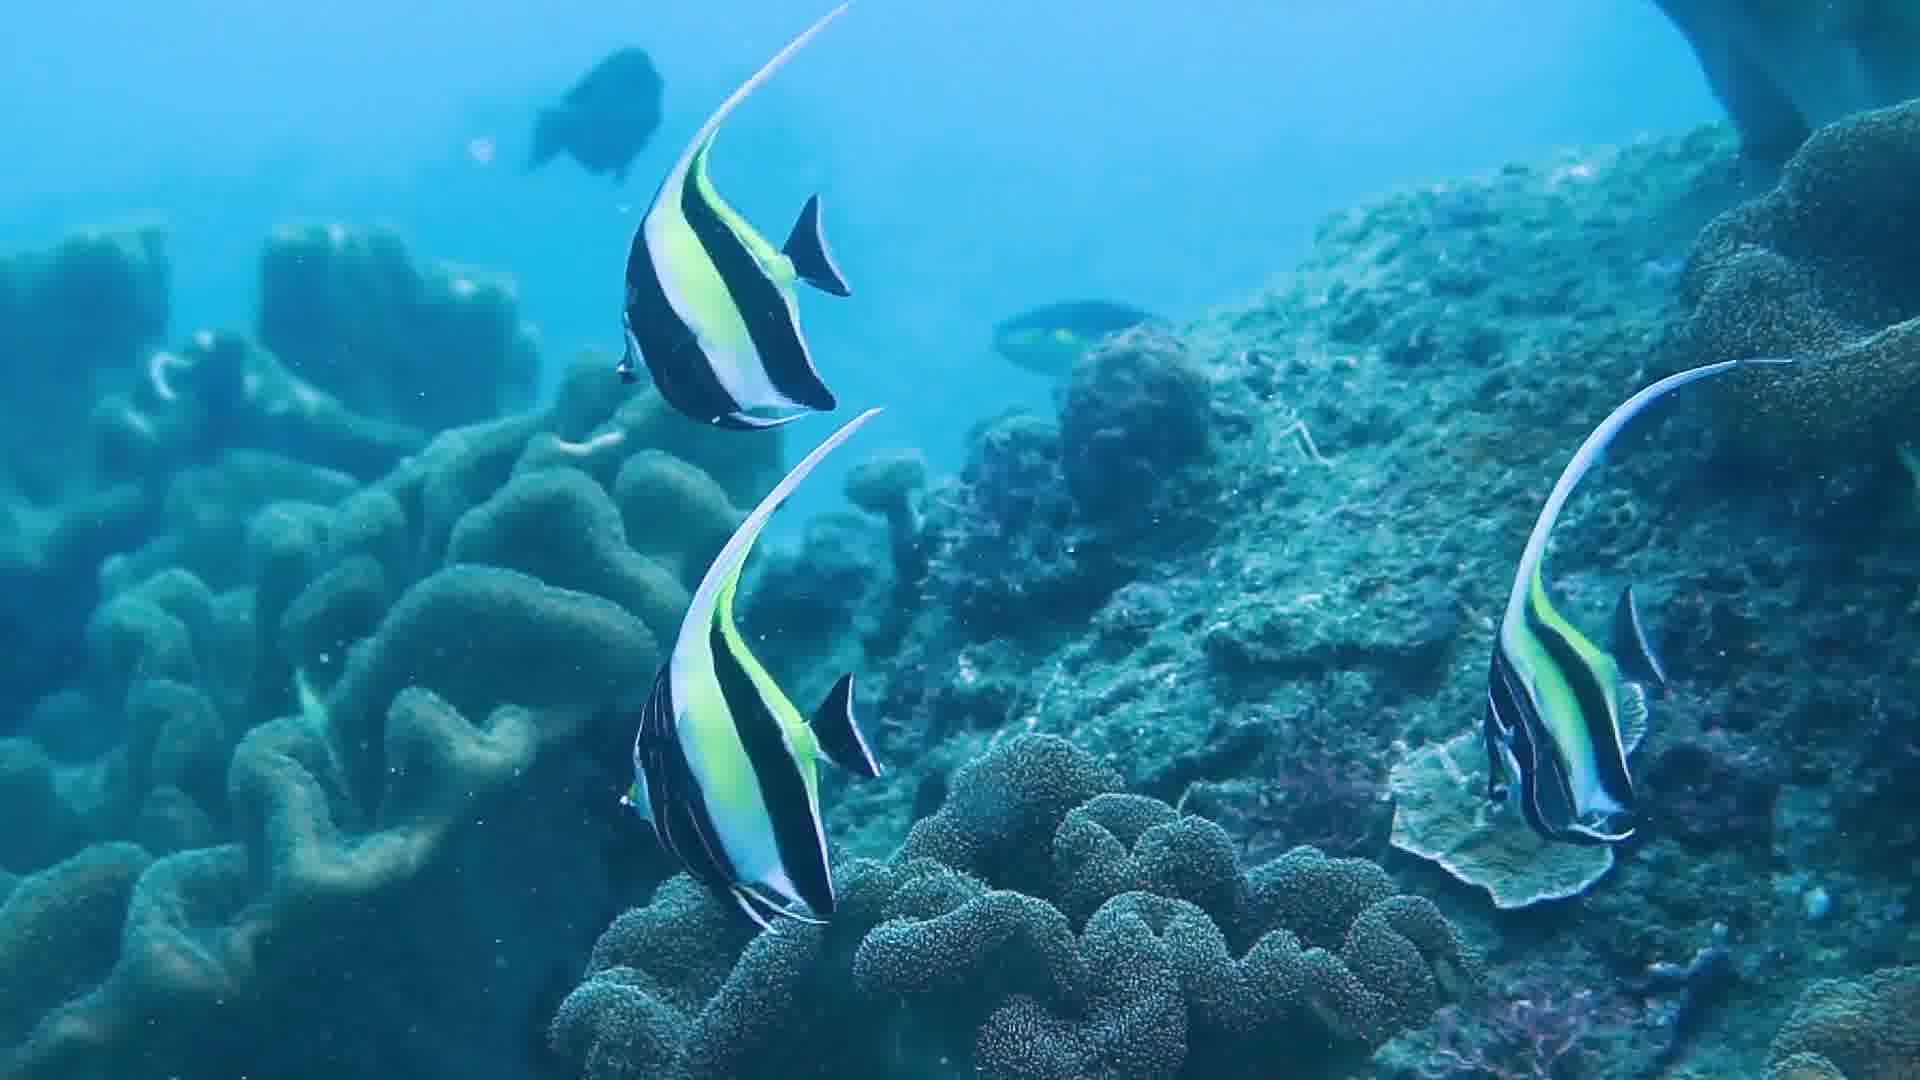Zanclus cornutus: (582, 104, 880, 469), (607, 571, 903, 938), (1415, 498, 1712, 864)
